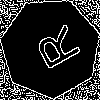R: (25, 23, 83, 77)
